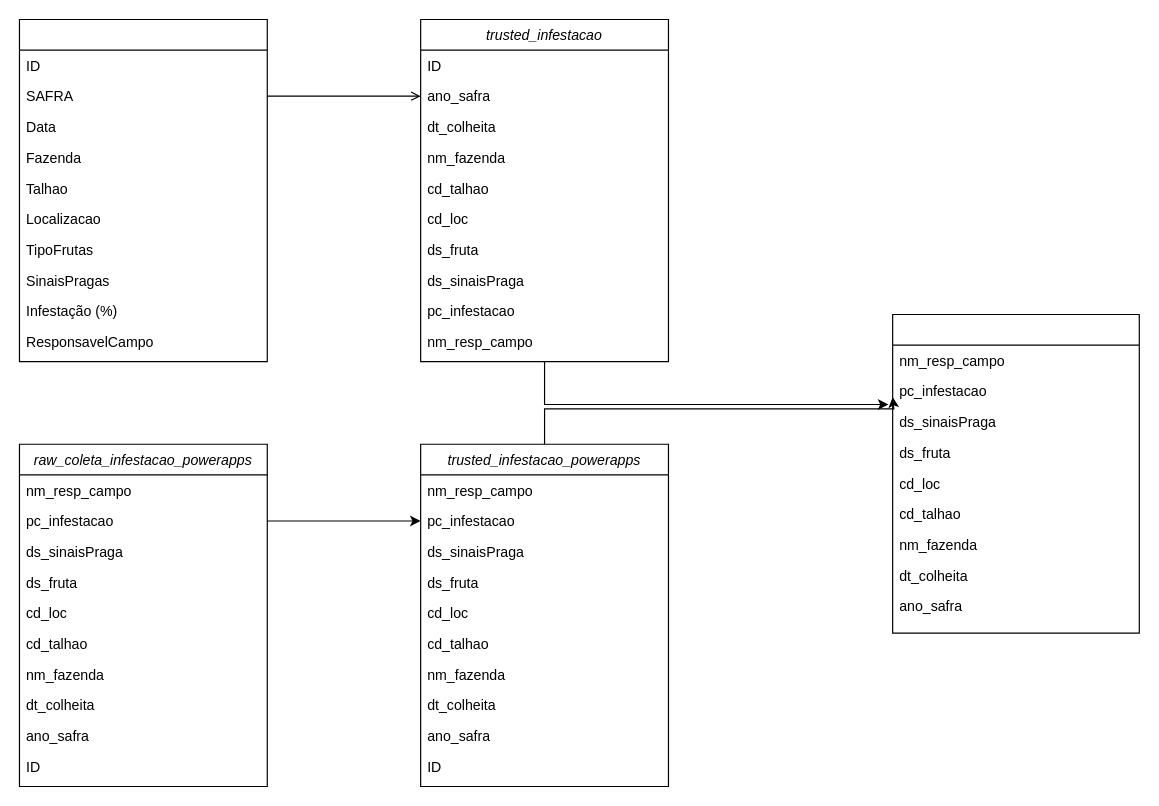
The diagram is 1159 pixels wide and 806 high, and some of its shapes have lost their labels. The shapes that lost their labels are listed below. From the top down, each one's box as (x1, y1, x2, y2) in pixels, then its label:
(18, 18, 267, 362): raw_infestacao
(891, 313, 1139, 633): refined_infestacao
